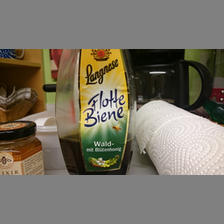honey: (55, 49, 140, 176), (1, 119, 47, 174)
